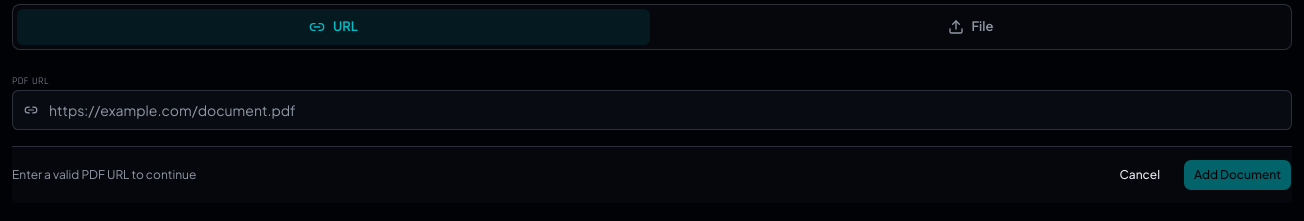
Test: AddLegalForm — File mode › switches to file mode
The image size is (1304, 221).
Click the button "File" at (970, 27), box left=654, top=9, right=1287, bottom=44
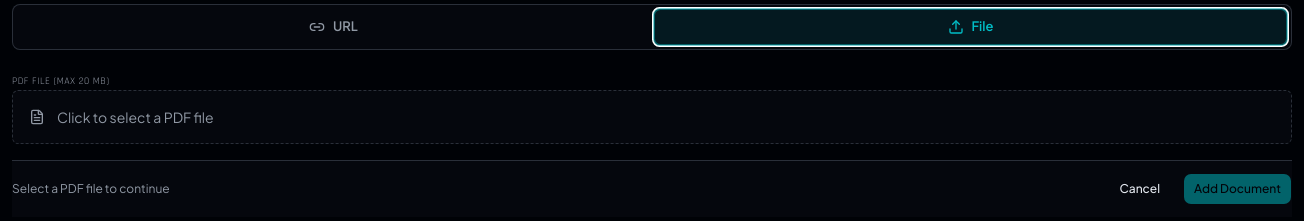
Now the text "Click to select a PDF file" is shown, box left=57, top=106, right=214, bottom=126
